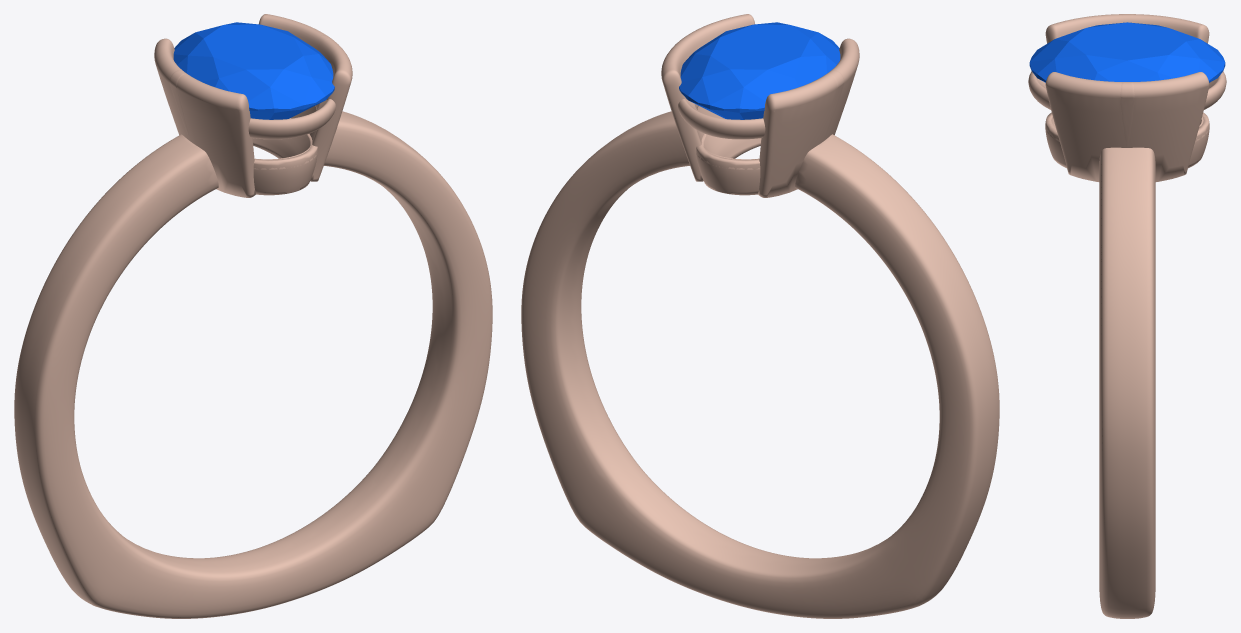
Rendered from bluesapphire-oval-rosegold-halfmoonbezel-europeanshank-nosidestones.glb.
3 renders of one model, left to right at view 1: azimuth 30°, elevation 25°; view 2: azimuth 150°, elevation 25°; view 3: azimuth 270°, elevation 25°, orthographic. The views are drawn at different scales.
Parts seen in each view (by area): view 1: metal, stone; view 2: metal, stone; view 3: metal, stone.
Part boxes in pixels (x1,y1,x2,y2): metal: (14,14,492,618); stone: (173,22,334,119); metal: (521,14,999,618); stone: (679,22,840,119); metal: (1028,14,1226,618); stone: (1029,22,1225,82).
Bounding box in the file's own units: 20.1 × 23.21 × 7.75.
